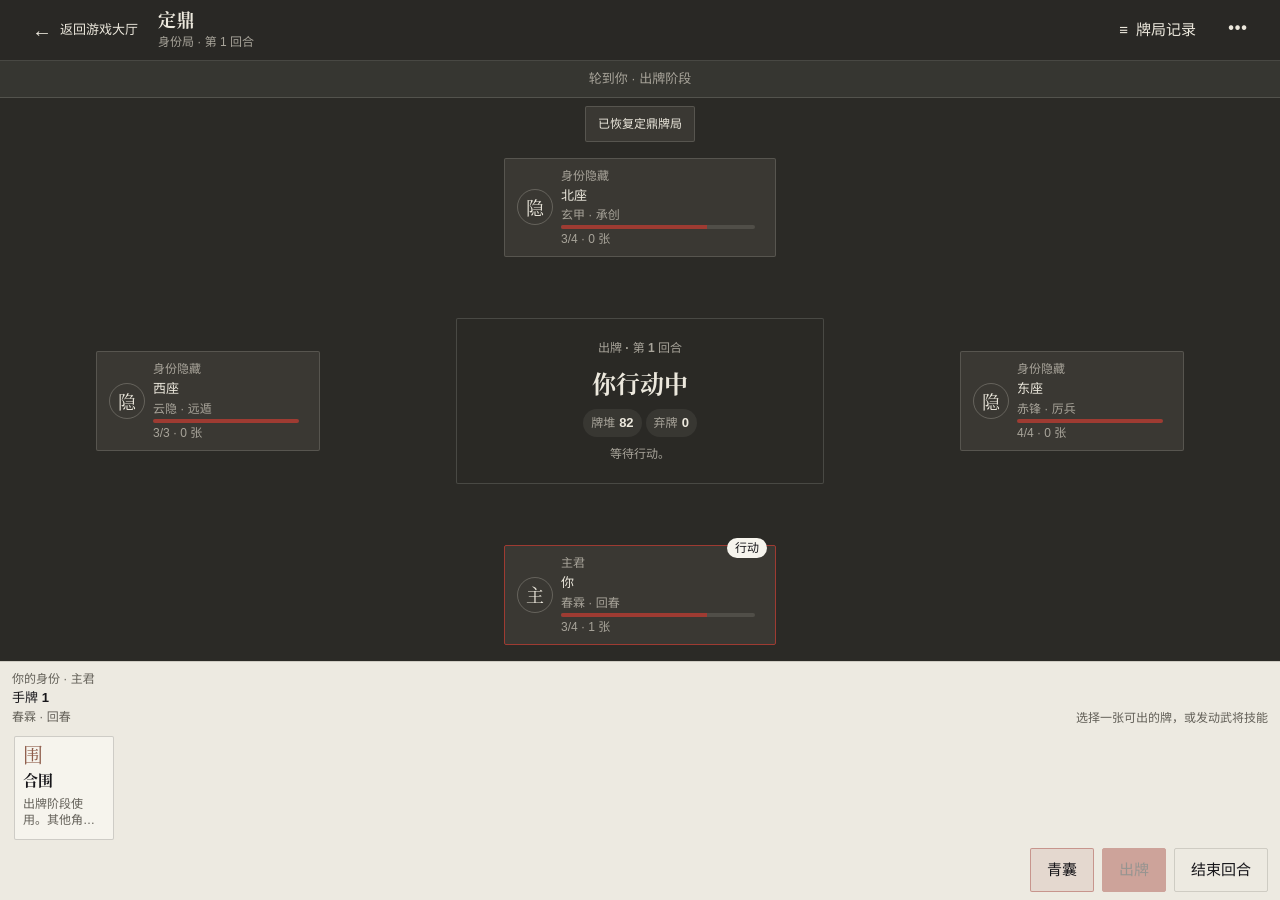
Scenario: DingDingGame card target selection › presents a global card as target-free instead of highlighting the player
This screenshot has width=1280, height=900.
Click the button with aria-label "合围，可打出": x=64, y=788 [14,736,114,840]
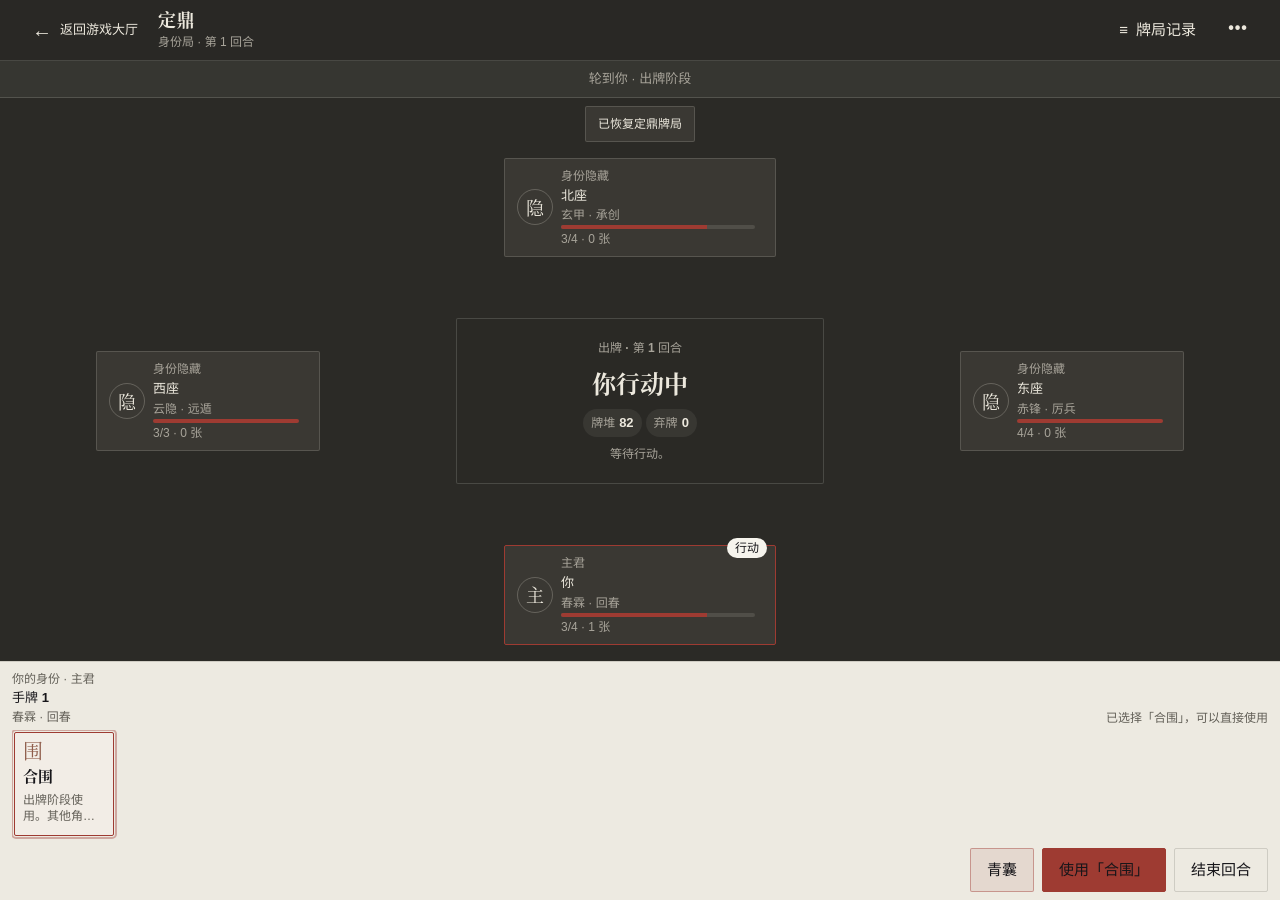
Check: the text "已选择「合围」，可以直接使用" is shown, box [1106,710,1268,726]
Check: the button "使用「合围」" is enabled
Click the button "使用「合围」": x=1104, y=870 [1042,848,1166,892]
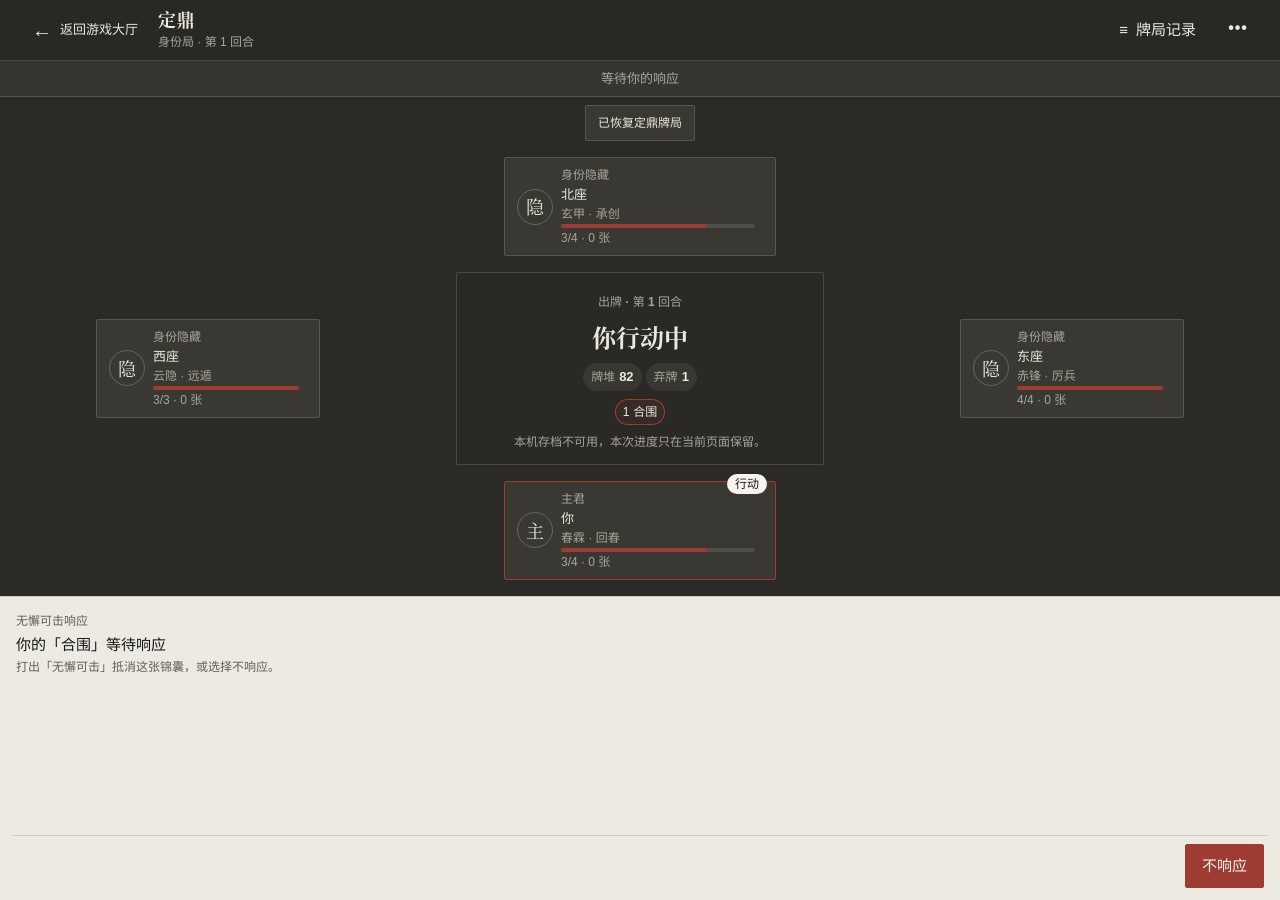
Check: the element named "结算栈，共 1 层" shows "合围", box [633,405,657,419]
Check: the element named "需要你响应" is shown, box [0,596,1279,899]
